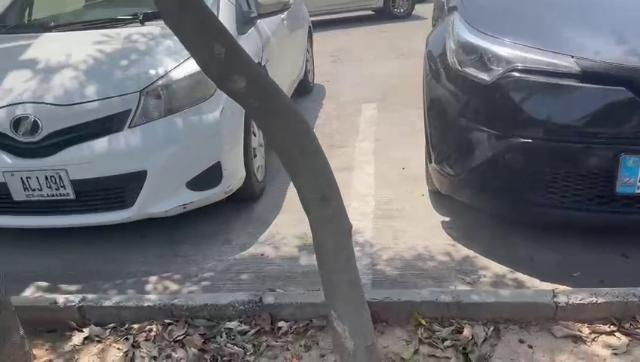plate: (2, 168, 76, 201)
